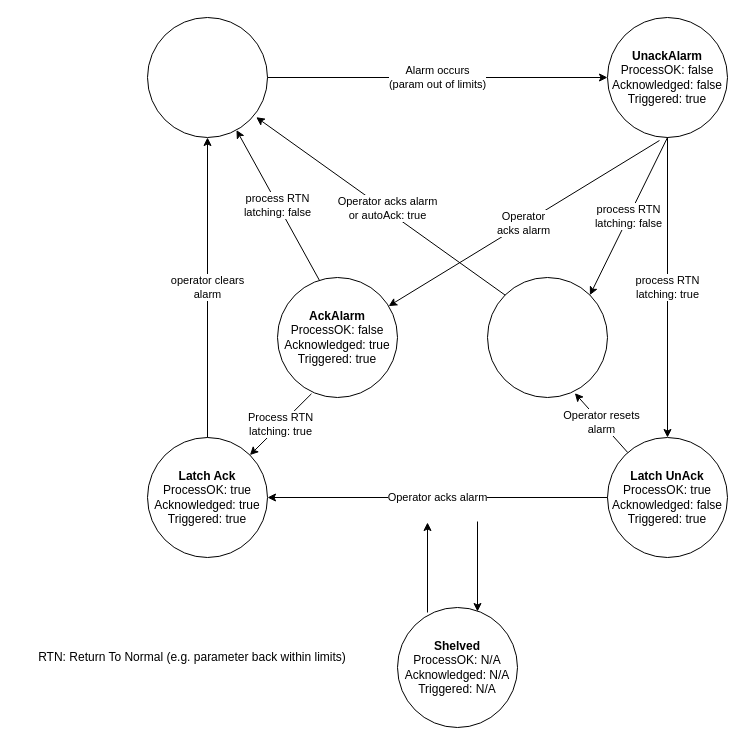
The diagram is 745 pixels wide and 745 high, and some of its shapes have lost their labels. Each missing label, with the centre of its shape:
Normal ProcessOK: true Acknowledged: true Triggered: false: point (207, 77)
RTN Unack ProcessOK: true Acknowledged: false Triggered: true: point (547, 337)
